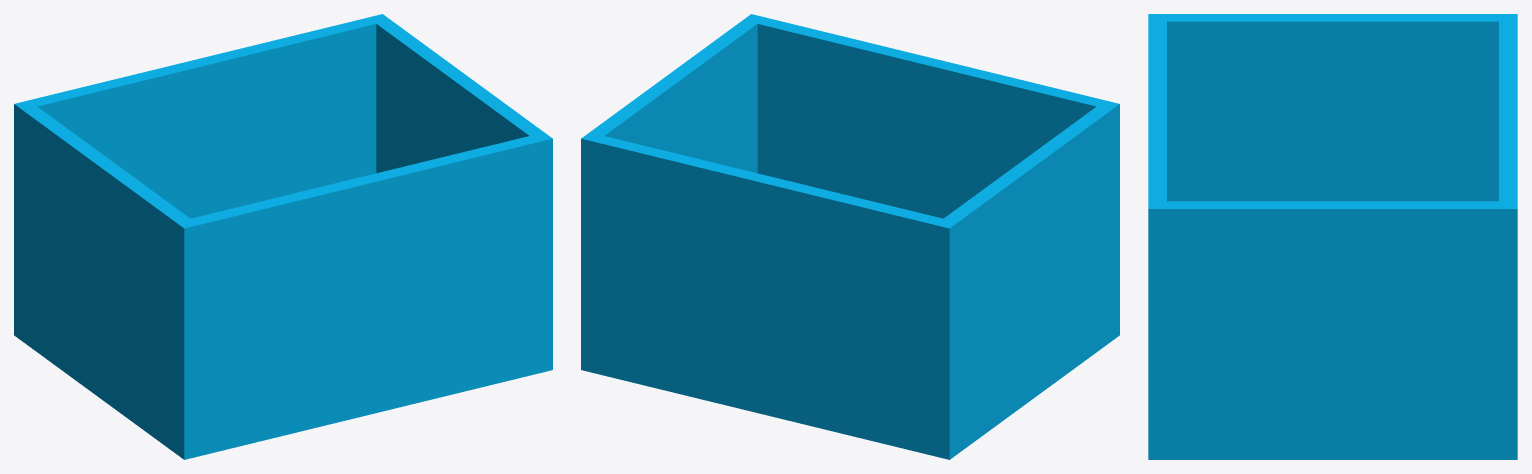
Rendered from ici_bos_kutu.gltf.
3 renders of one model, left to right at view 1: azimuth 30°, elevation 25°; view 2: azimuth 150°, elevation 25°; view 3: azimuth 270°, elevation 25°, orthographic. The views are drawn at different scales.
Visible parts, largest first — view 1: Open CASCADE STEP translator 7.8 1; view 2: Open CASCADE STEP translator 7.8 1; view 3: Open CASCADE STEP translator 7.8 1.
Part boxes in pixels (x1=…): Open CASCADE STEP translator 7.8 1: x1=14, y1=14, x2=552, y2=459; Open CASCADE STEP translator 7.8 1: x1=581, y1=14, x2=1119, y2=459; Open CASCADE STEP translator 7.8 1: x1=1148, y1=14, x2=1517, y2=459.
Bounding box in the file's own units: 0.05 × 0.03 × 0.04.
